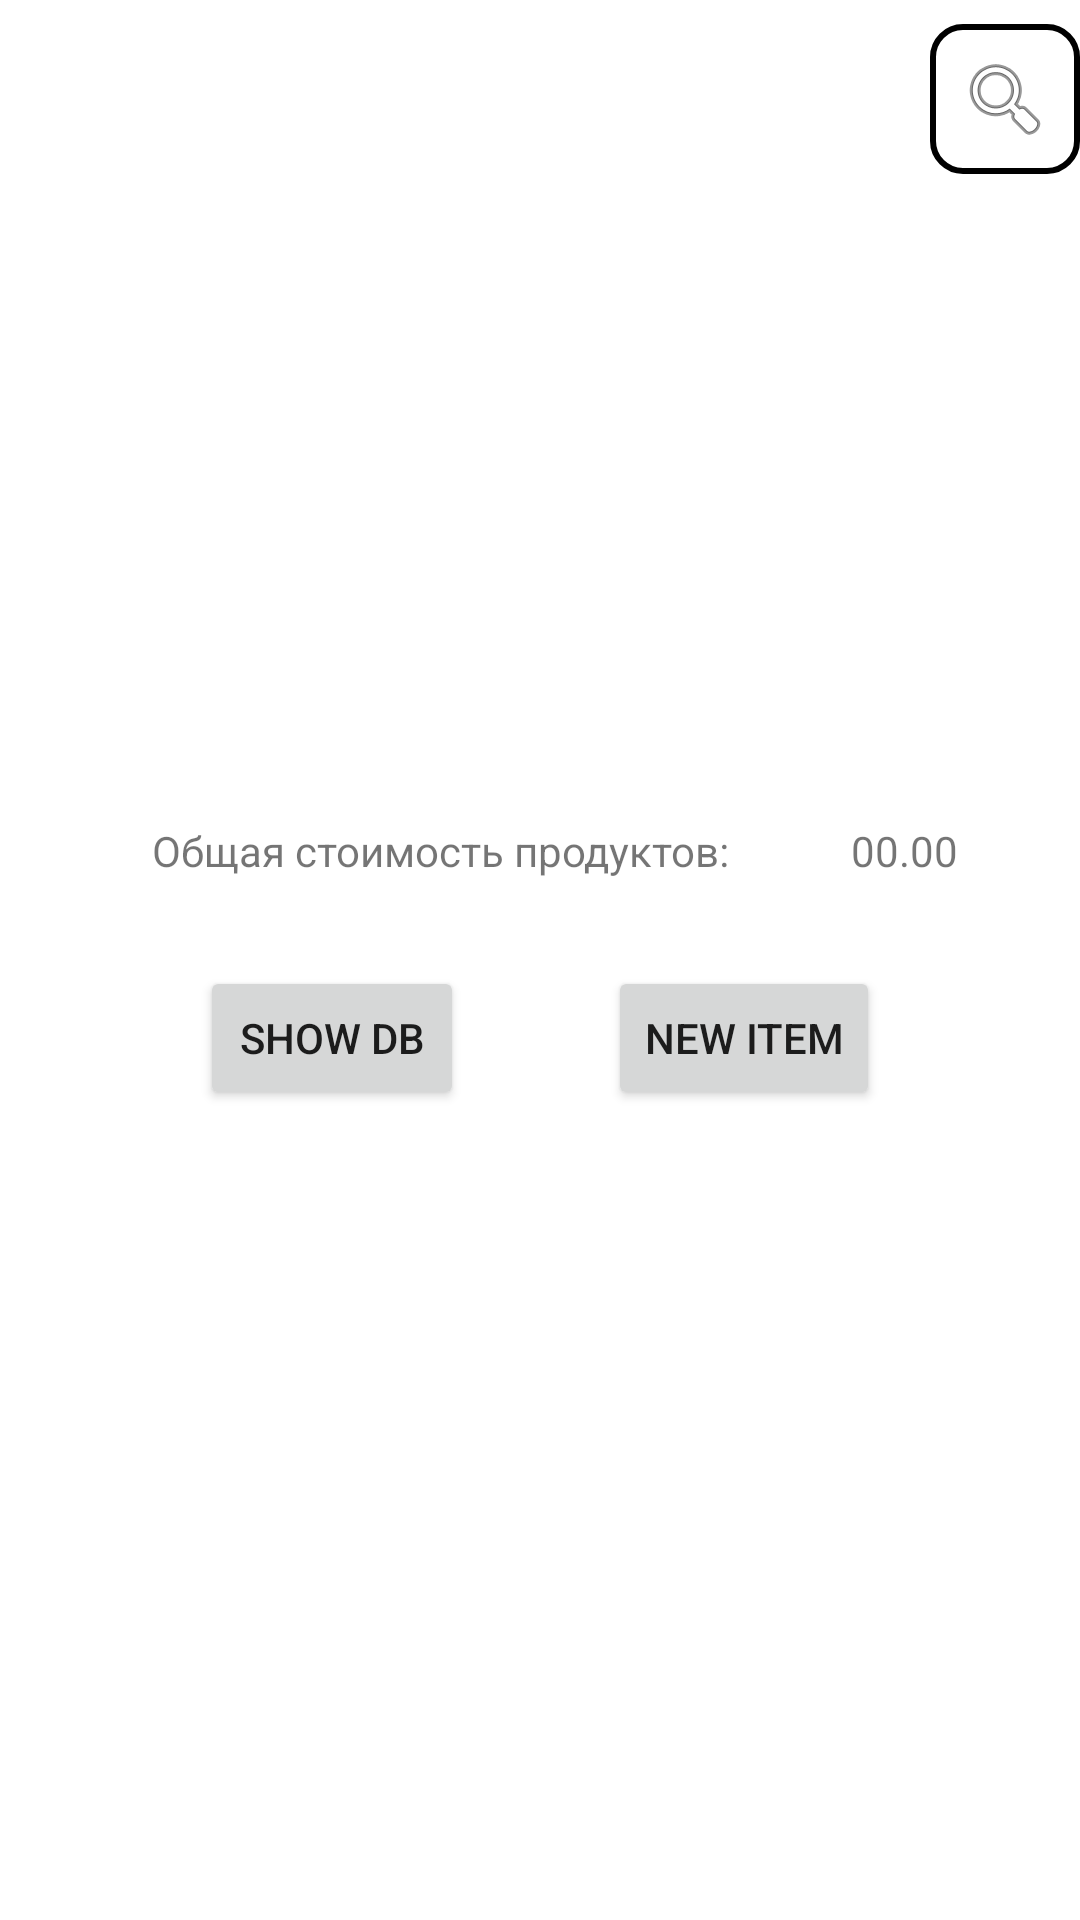

Named icons in this screenshot (1080w x 1920h) and their bounding boxes, (x1, y1, x2, y2):
search: (930, 24, 1080, 174)
